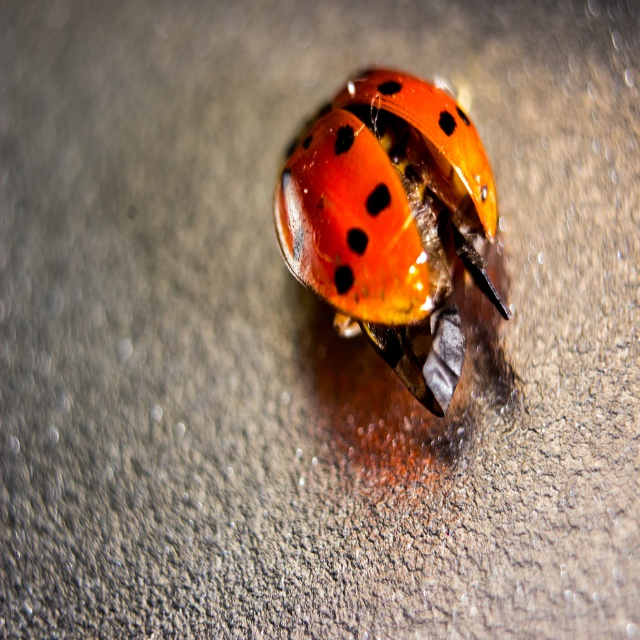Ladybug: (271, 68, 510, 423)
